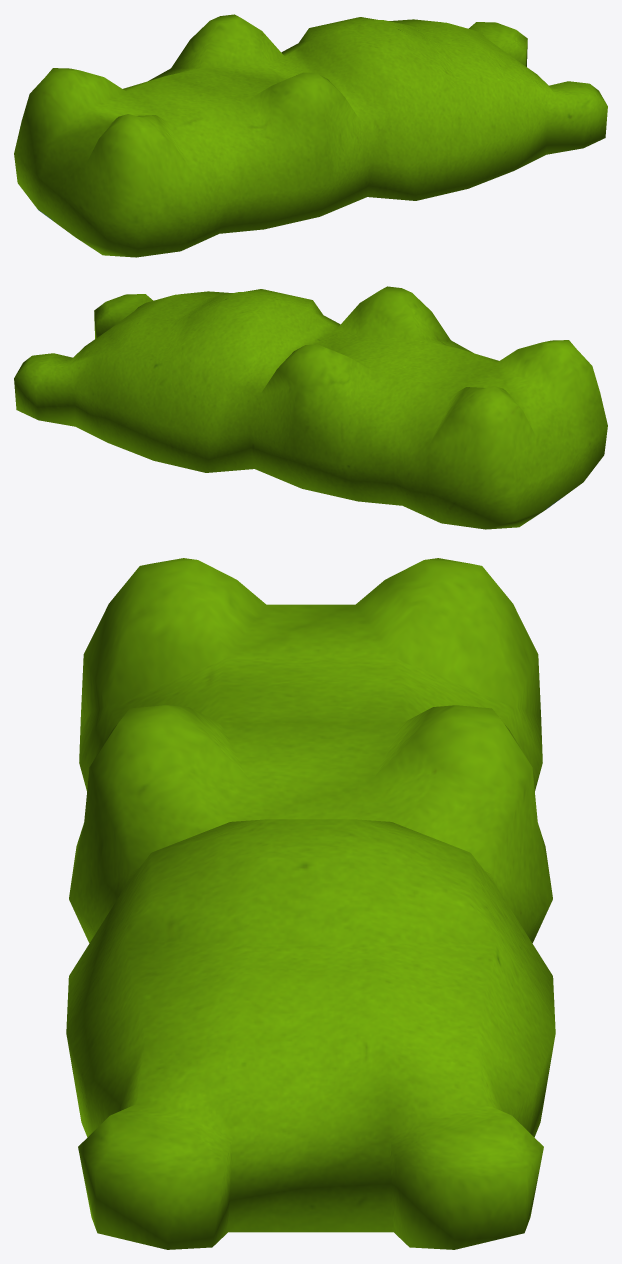
Rendered from CHP_MOD_Gummy_Bear_green.fbx.
The picture shows the model from 3 angles, top to bottom: view 1: azimuth 30°, elevation 25°; view 2: azimuth 150°, elevation 25°; view 3: azimuth 270°, elevation 25°; orthographic projection. The views are drawn at different scales.
Parts seen in each view (by area): view 1: CHP_MOD_Gummy_bear_green; view 2: CHP_MOD_Gummy_bear_green; view 3: CHP_MOD_Gummy_bear_green.
Boxes of the visible parts, left/top/right/bottom form: CHP_MOD_Gummy_bear_green: left=14, top=14, right=607, bottom=257; CHP_MOD_Gummy_bear_green: left=14, top=286, right=607, bottom=529; CHP_MOD_Gummy_bear_green: left=66, top=558, right=555, bottom=1249.
Bounding box in the file's own units: 0.9178 × 0.2627 × 0.3825.
